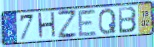7: (18, 14, 36, 41)
B: (117, 6, 138, 35)
E: (77, 9, 99, 38)
H: (37, 11, 57, 41)
Q: (98, 7, 118, 36)
Z: (56, 10, 79, 40)
